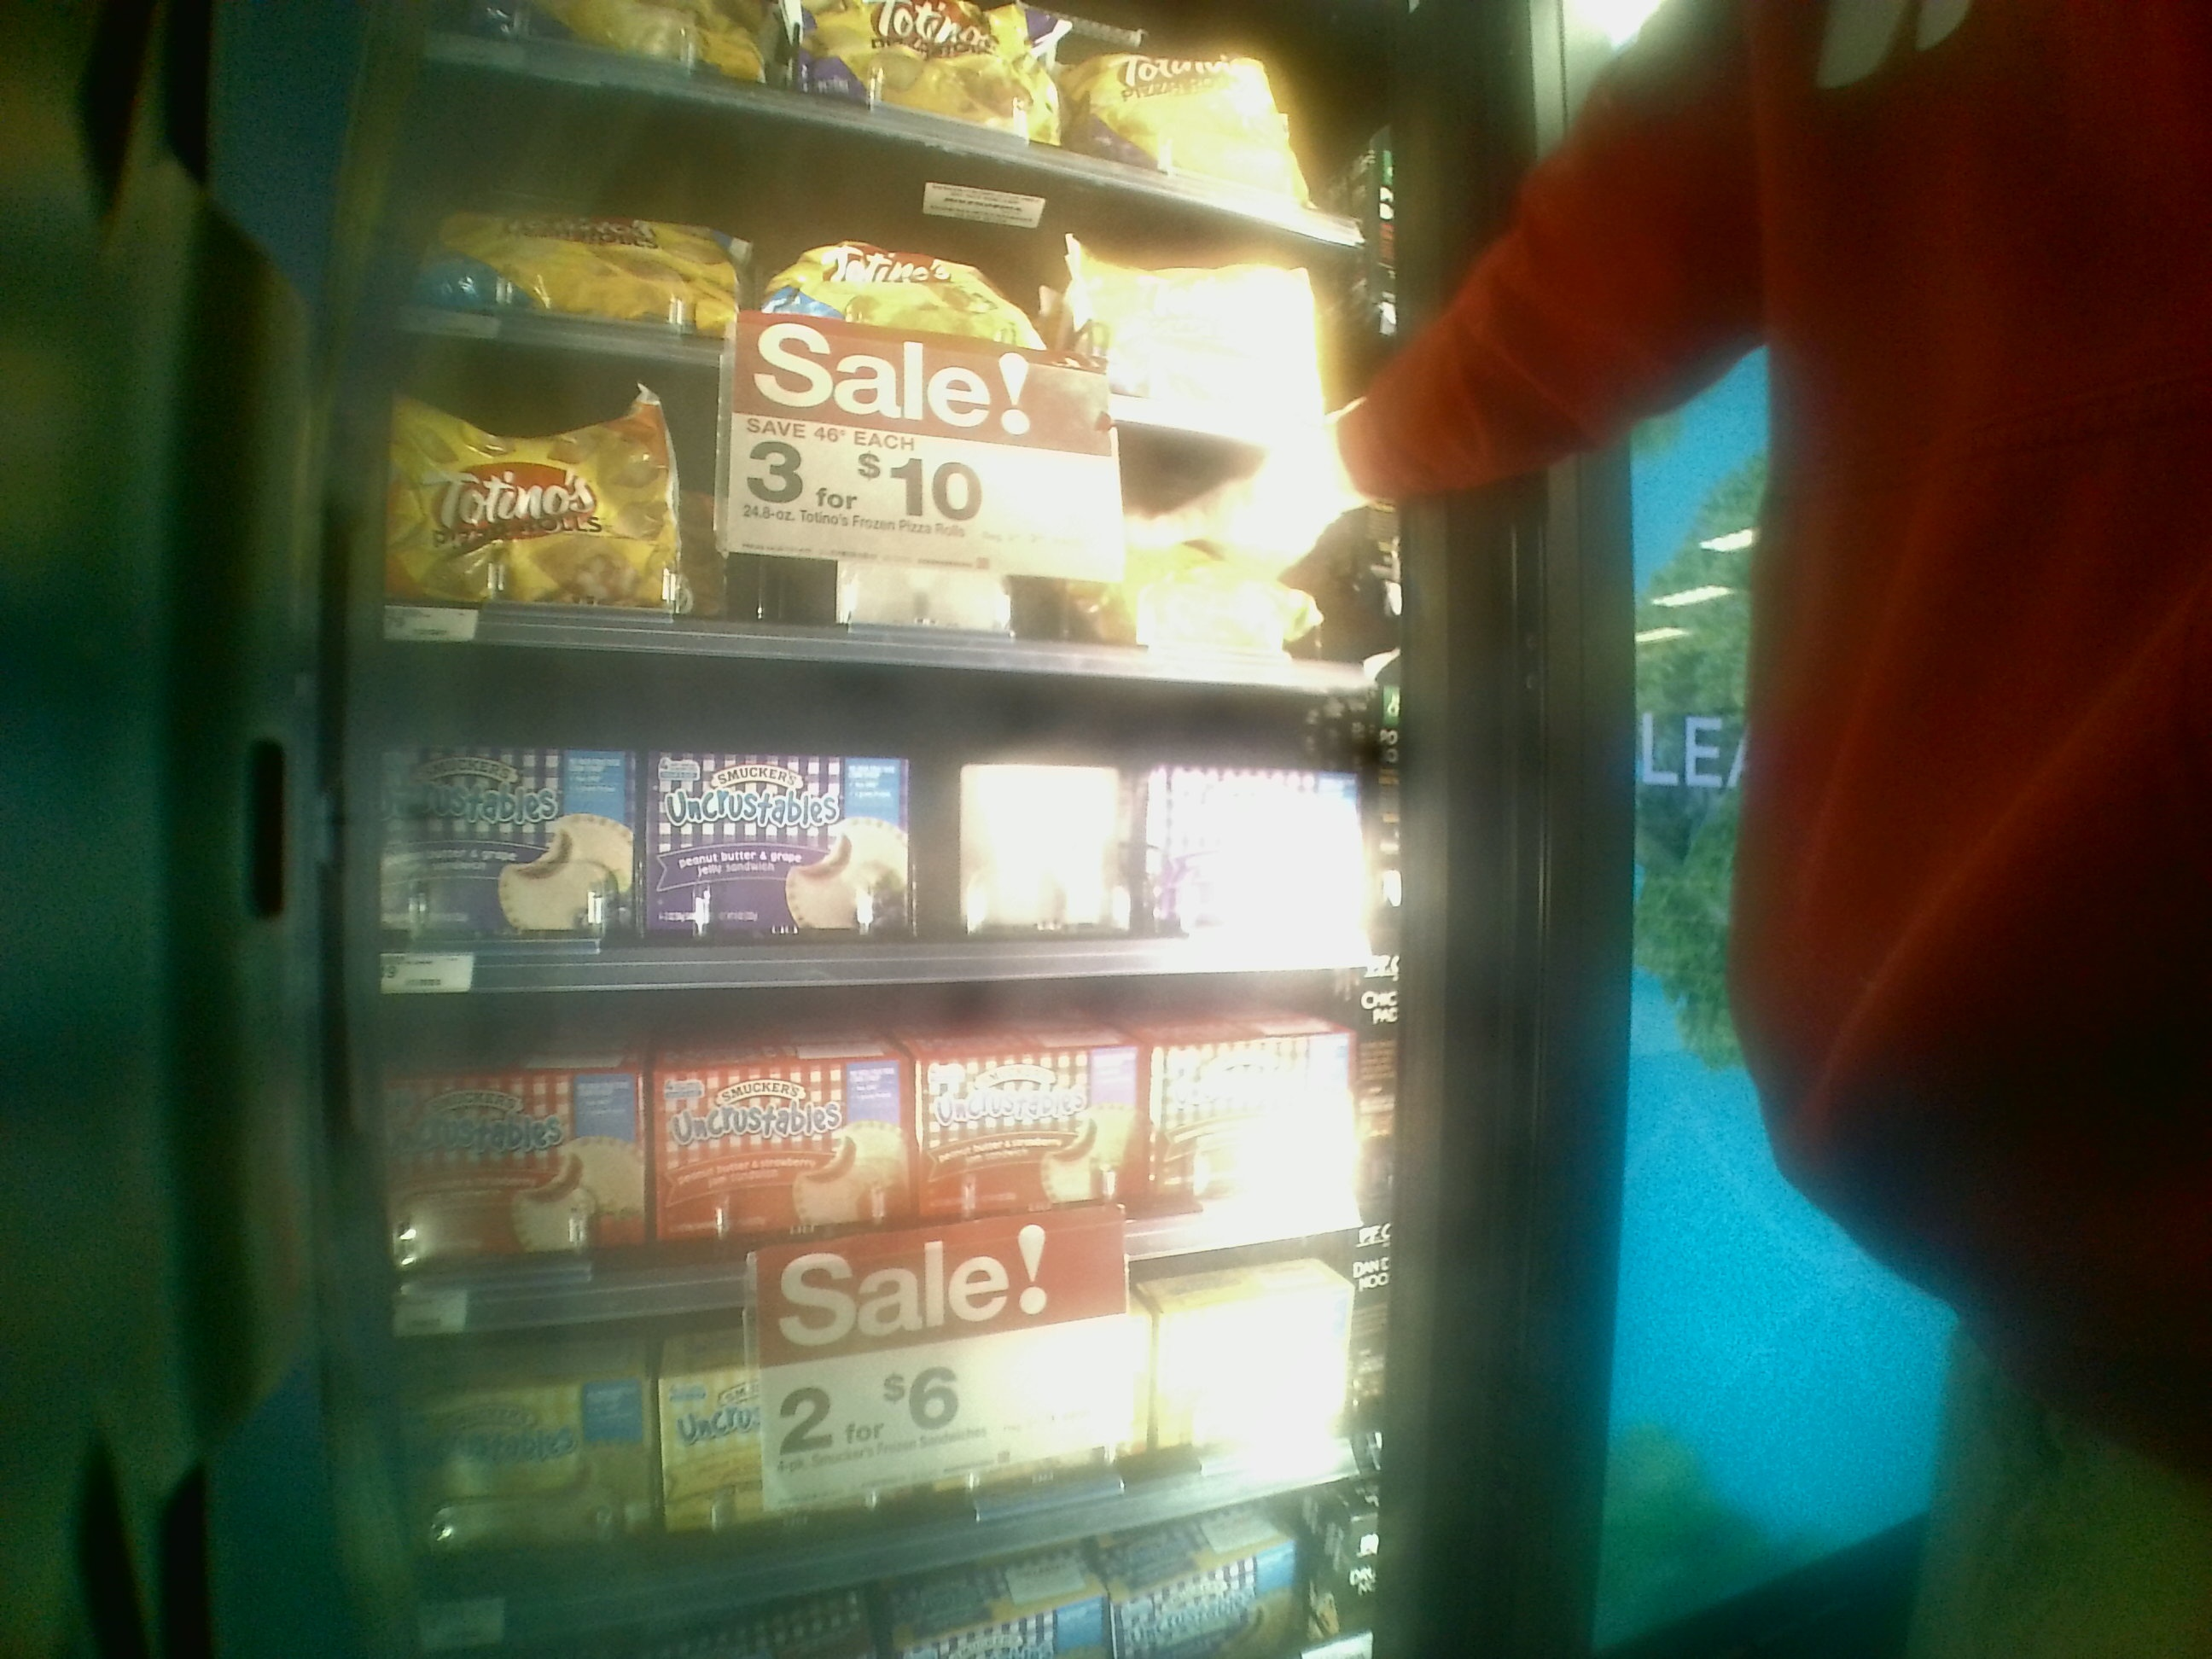shelf: (371, 73, 1383, 437), (364, 1295, 1388, 1631), (347, 662, 1388, 992), (359, 362, 1400, 683), (338, 993, 1388, 1295)
